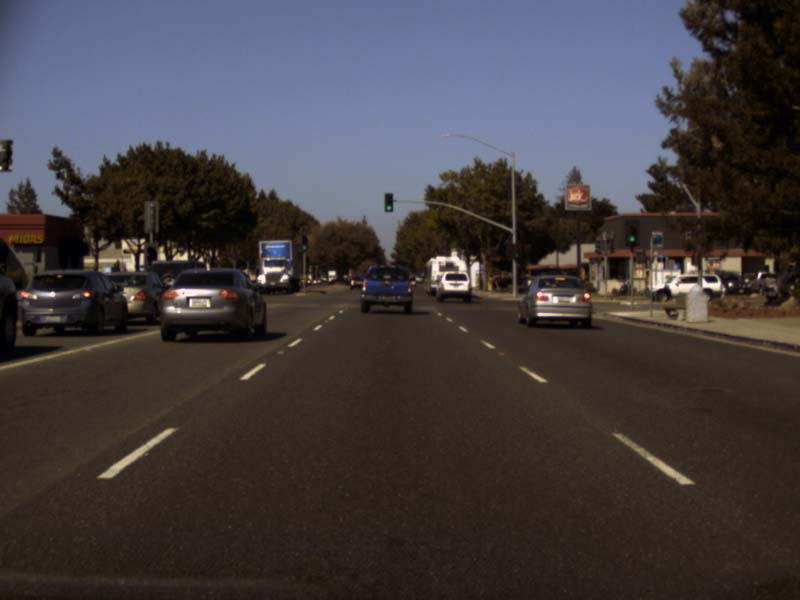Green: (624, 220, 639, 247), (146, 246, 155, 270), (510, 244, 522, 261), (384, 192, 392, 211), (301, 235, 307, 250)
